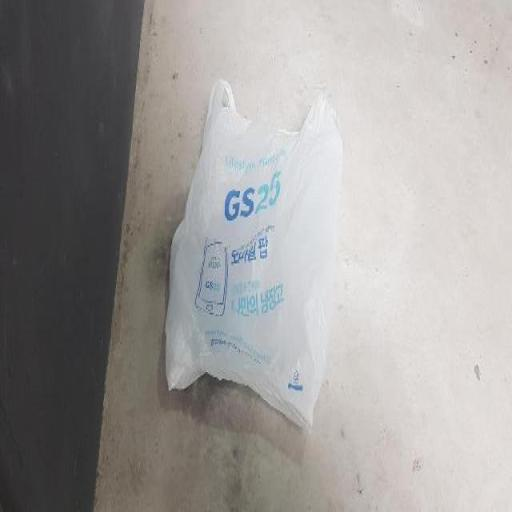plastic-bag: (164, 76, 345, 434)
